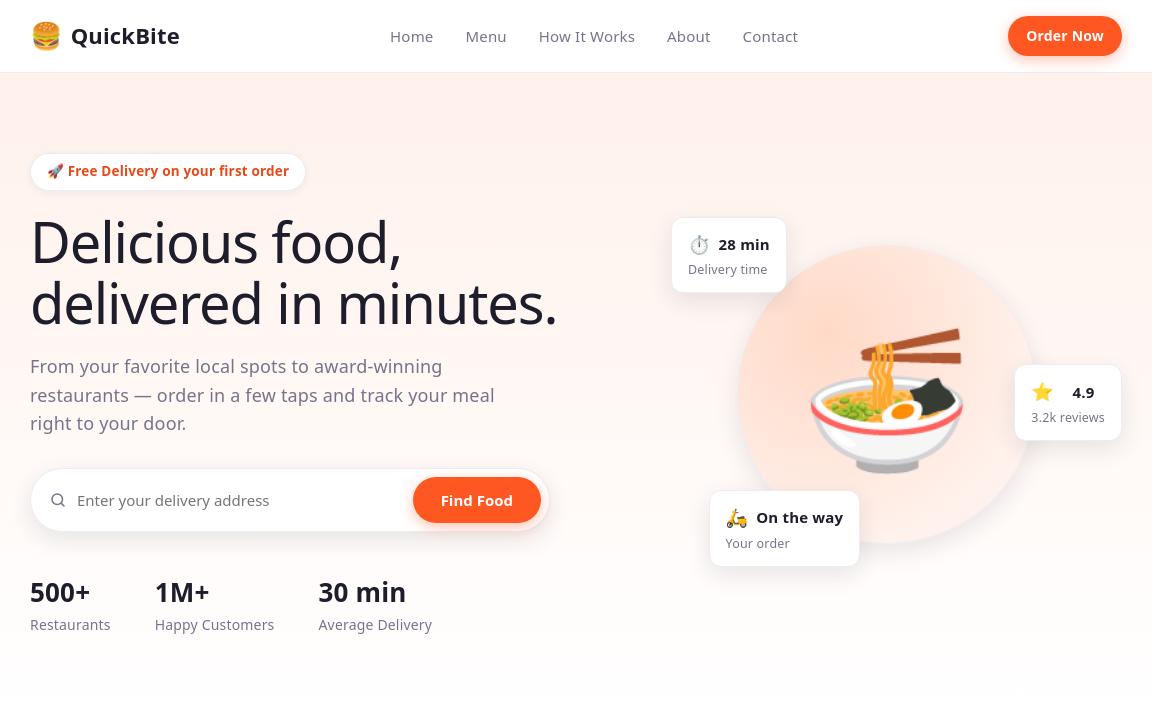
Scenario: Hero Section › shows an error message when searching with an empty address
Click the button "Find Food": (477, 500) [413,477,541,523]
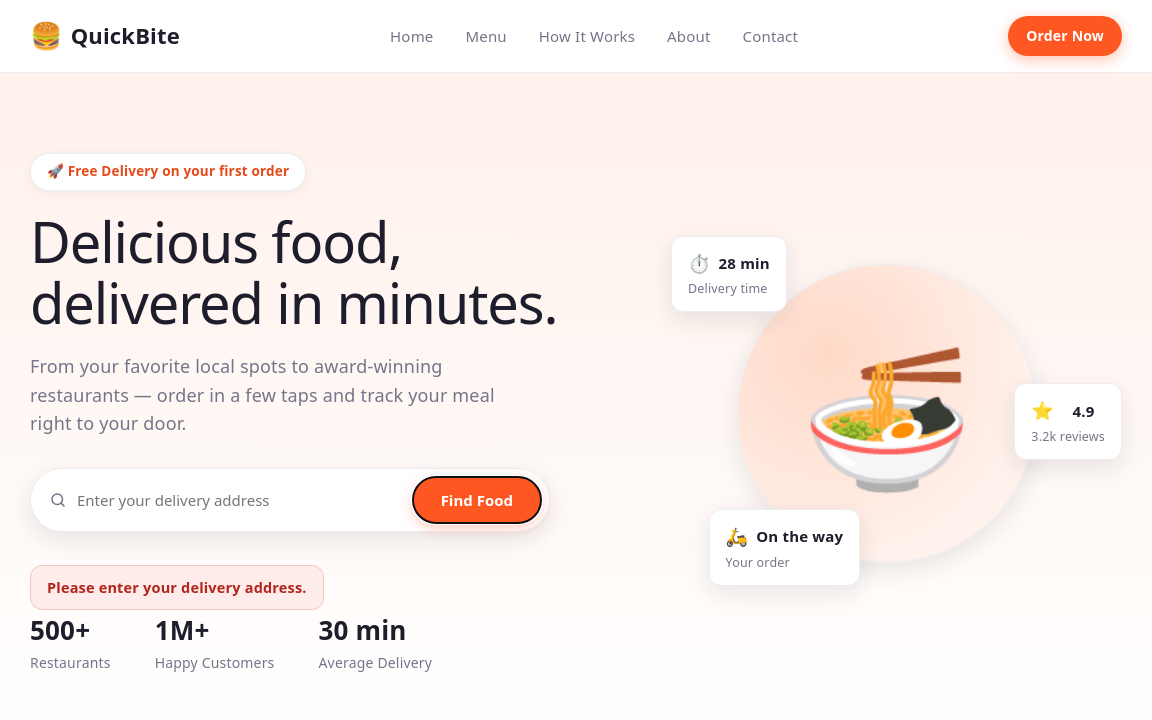
Check: the message reads "Please enter your delivery address.", box [47,577,307,597]
